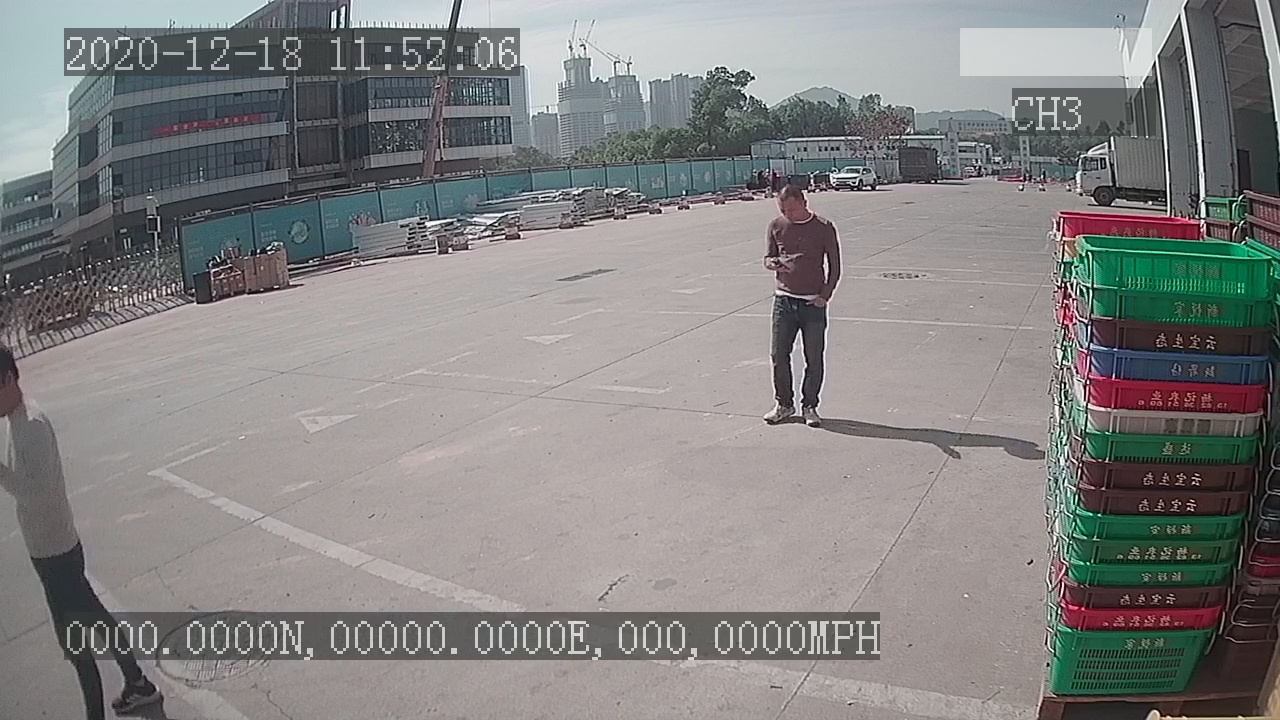person: (752, 183, 847, 433)
